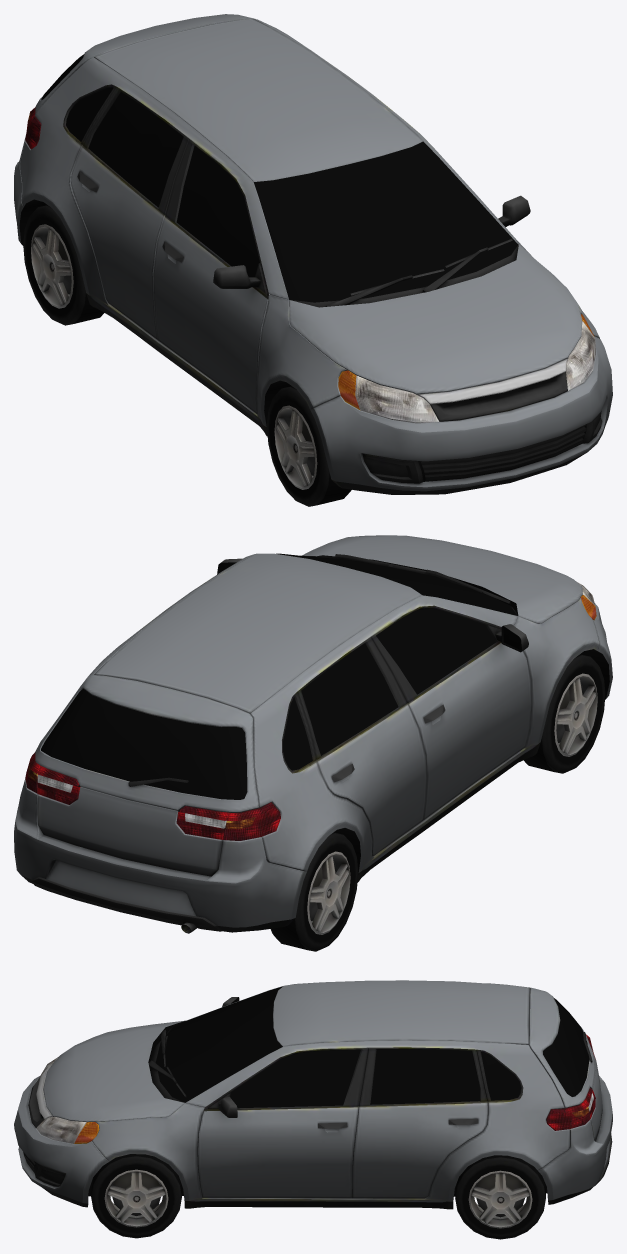
Rendered from hatch_silver.glb.
3 views of the same model, one above another, from view 1: azimuth 30°, elevation 25°; view 2: azimuth 150°, elevation 25°; view 3: azimuth 270°, elevation 25° (orthographic). The views are drawn at different scales.
Parts seen in each view (by area): view 1: hatch body, Front Right Wheel, Rear Right Wheel; view 2: hatch body, Rear Right Wheel, Front Right Wheel; view 3: hatch body, Front Left Wheel, Rear Left Wheel.
Boxes of the visible parts, x1=… form: hatch body: x1=14, y1=14, x2=612, y2=494; Front Right Wheel: x1=267, y1=386, x2=351, y2=506; Rear Right Wheel: x1=23, y1=205, x2=104, y2=325; hatch body: x1=14, y1=535, x2=612, y2=933; Rear Right Wheel: x1=270, y1=832, x2=358, y2=951; Front Right Wheel: x1=523, y1=654, x2=605, y2=773; hatch body: x1=14, y1=980, x2=612, y2=1209; Front Left Wheel: x1=91, y1=1154, x2=181, y2=1238; Rear Left Wheel: x1=455, y1=1155, x2=545, y2=1239.
Size of the model in its own units: 1.74 by 1.35 by 3.96.
Materials: 1 (1 with a texture image).
